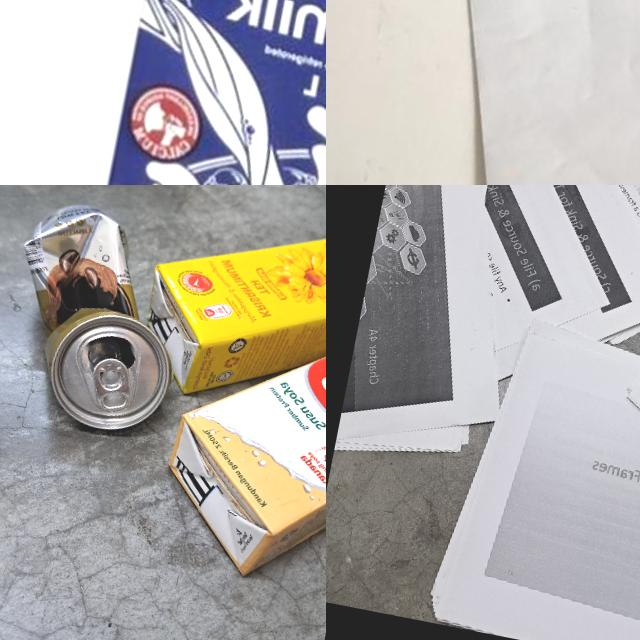aba de lata: (86, 355, 134, 414)
caixinha: (148, 284, 326, 592), (130, 193, 326, 430), (90, 0, 326, 185)
lata: (0, 196, 199, 442)
papel: (326, 185, 640, 640), (388, 0, 640, 185)
